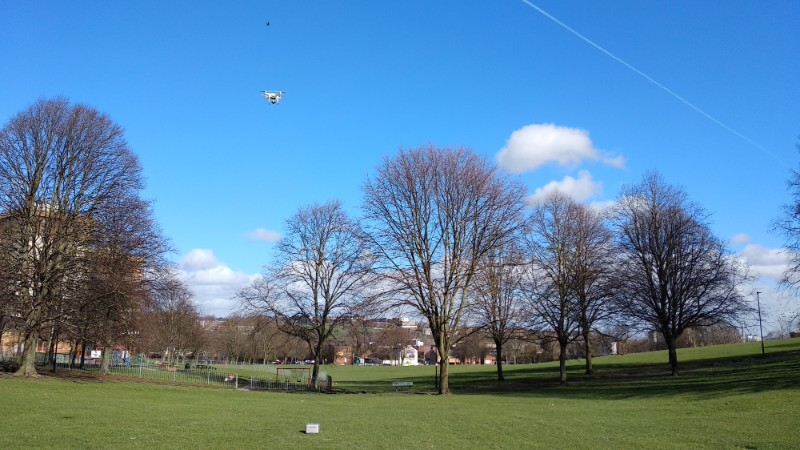drone: (261, 89, 287, 105)
